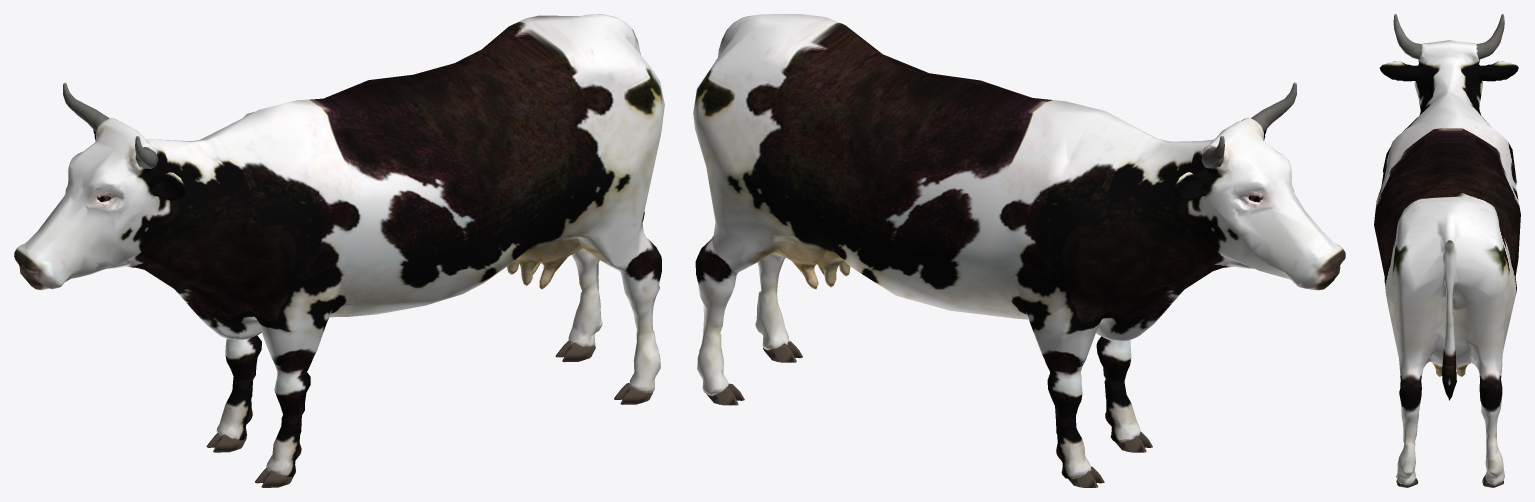
The model's file is cow.fbx.
The picture shows the model from 3 angles, left to right: view 1: azimuth 30°, elevation 25°; view 2: azimuth 150°, elevation 25°; view 3: azimuth 270°, elevation 25°; orthographic projection. The views are drawn at different scales.
Parts seen in each view (by area): view 1: COWBODY, COWcuern; view 2: COWBODY, COWcuern; view 3: COWBODY, COWcuern.
Boxes of the visible parts, box(x1,y1,x2,y2) form: COWBODY: box(14, 14, 664, 476); COWcuern: box(63, 83, 158, 168); COWBODY: box(693, 14, 1345, 479); COWcuern: box(1201, 82, 1296, 168); COWBODY: box(1374, 40, 1520, 485); COWcuern: box(1393, 14, 1504, 59).
Bounding box in the file's own units: 3100 × 1858 × 860.
Materials: 4 (3 with a texture image).
